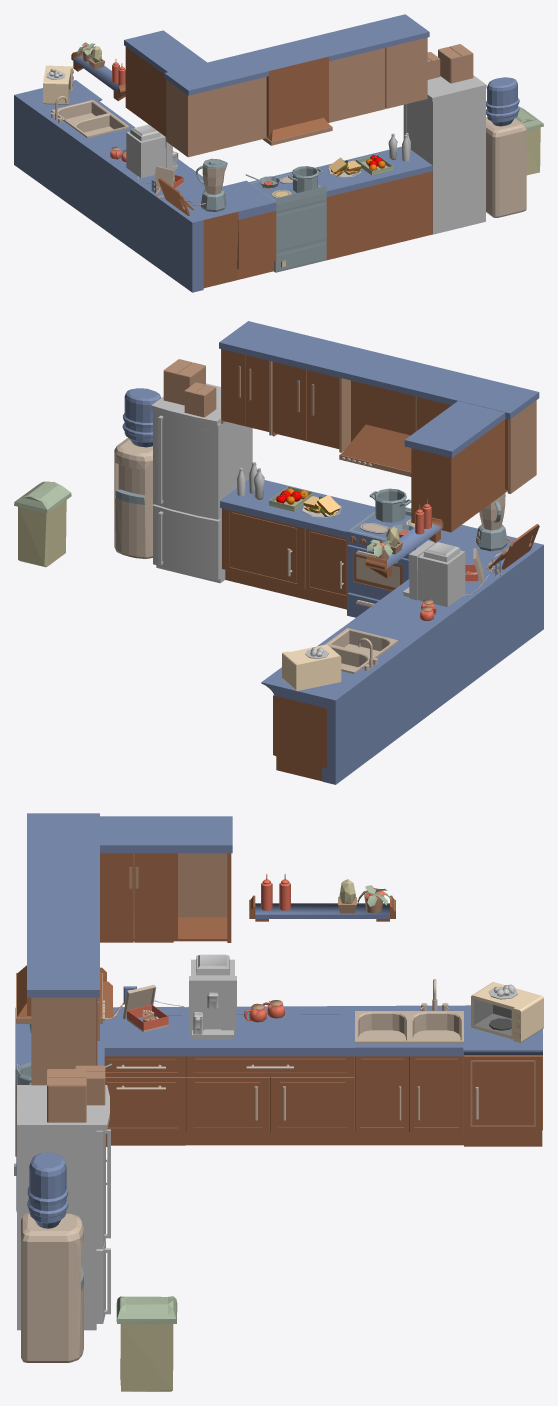
Rendered from kitchen_colored_v2.fbx.
3 views of the same model, one above another, from view 1: azimuth 30°, elevation 25°; view 2: azimuth 150°, elevation 25°; view 3: azimuth 270°, elevation 25° (orthographic). The views are drawn at different scales.
Parts seen in each view (by area): view 1: long blue thing, fridge_001, Counter_Door_2.002, Prop_KitchenCabinet_02_F, Cube, Counter_Door_2, Prop_WaterDispenser, desk_1_alternative, Stove, Counter_Door_2.001, Prop_KitchenCabinet_02_E, Prop_KitchenCabinet_02_F__1_ (+15 smaller); view 2: long blue thing, fridge_001, desk_1_alternative, Counter_Door_2, Prop_KitchenCabinet_02_F, Counter_Door_2.002, Prop_WaterDispenser, Counter_Door_2.001, Cube, Prop_KitchenCabinet_02_E__1_, Prop_KitchenCabinet_02_F__1_, Prop_TrashCan_04 (+14 smaller); view 3: Prop_KitchenCabinet_02_I, desk_1_alternative, Prop_KitchenSink, Prop_WaterDispenser, fridge_001, Prop_KitchenCabinet_02_H, Prop_KitchenCabinet_02_E__1_, Counter_Door_2.001, Prop_TrashCan_04, Counter_Door_2.002, coffee_machine_001, Cube (+9 smaller).
Boxes of the visible parts, x1=… form: long blue thing: x1=14, y1=92, x2=203, y2=292; fridge_001: x1=403, y1=75, x2=486, y2=234; Counter_Door_2.002: x1=164, y1=53, x2=268, y2=157; Prop_KitchenCabinet_02_F: x1=344, y1=146, x2=432, y2=251; Cube: x1=245, y1=39, x2=328, y2=137; Counter_Door_2: x1=305, y1=24, x2=387, y2=122; Prop_WaterDispenser: x1=486, y1=77, x2=526, y2=217; desk_1_alternative: x1=124, y1=30, x2=206, y2=136; Stove: x1=249, y1=171, x2=326, y2=272; Counter_Door_2.001: x1=363, y1=14, x2=429, y2=108; Prop_KitchenCabinet_02_E: x1=221, y1=180, x2=276, y2=279; Prop_KitchenCabinet_02_F__1_: x1=315, y1=163, x2=363, y2=260; long blue thing: x1=322, y1=542, x2=543, y2=784; fridge_001: x1=151, y1=383, x2=252, y2=583; desk_1_alternative: x1=404, y1=401, x2=507, y2=532; Counter_Door_2: x1=270, y1=333, x2=369, y2=452; Prop_KitchenCabinet_02_F: x1=220, y1=479, x2=335, y2=599; Counter_Door_2.002: x1=413, y1=368, x2=539, y2=493; Prop_WaterDispenser: x1=114, y1=388, x2=161, y2=558; Counter_Door_2.001: x1=219, y1=321, x2=298, y2=435; Cube: x1=340, y1=351, x2=441, y2=441; Prop_KitchenCabinet_02_E__1_: x1=261, y1=667, x2=358, y2=781; Prop_KitchenCabinet_02_F__1_: x1=303, y1=497, x2=375, y2=609; Prop_TrashCan_04: x1=14, y1=481, x2=71, y2=567; Prop_KitchenCabinet_02_I: x1=185, y1=1014, x2=354, y2=1145; desk_1_alternative: x1=100, y1=816, x2=232, y2=942; Prop_KitchenSink: x1=355, y1=1011, x2=463, y2=1145; Prop_WaterDispenser: x1=21, y1=1152, x2=83, y2=1362; fridge_001: x1=17, y1=1085, x2=110, y2=1330; Prop_KitchenCabinet_02_H: x1=97, y1=1015, x2=185, y2=1145; Prop_KitchenCabinet_02_E__1_: x1=463, y1=1010, x2=542, y2=1146; Counter_Door_2.001: x1=27, y1=959, x2=99, y2=1085; Prop_TrashCan_04: x1=116, y1=1296, x2=177, y2=1391; Counter_Door_2.002: x1=27, y1=813, x2=99, y2=871; coffee_machine_001: x1=128, y1=954, x2=236, y2=1039; Cube: x1=27, y1=872, x2=99, y2=1015.
Bounding box in the file's own units: 744 × 368 × 583.
